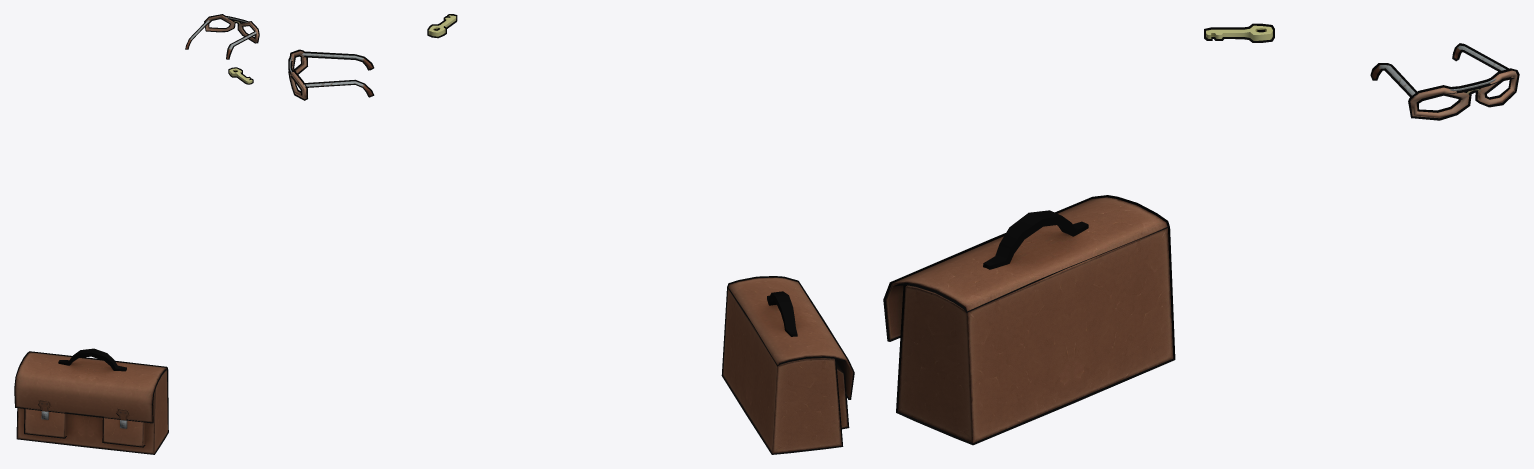
Rendered from Teachers Items.fbx.
3 renders of one model, left to right at view 1: azimuth 30°, elevation 25°; view 2: azimuth 150°, elevation 25°; view 3: azimuth 270°, elevation 25°, orthographic. The views are drawn at different scales.
Visible parts, largest first — view 1: Teachers Items; view 2: Teachers Items; view 3: Teachers Items.
Boxes of the visible parts, x1,y1,x2,y2 form: Teachers Items: (14, 14, 259, 454); Teachers Items: (288, 14, 854, 454); Teachers Items: (883, 23, 1519, 445).
Bounding box in the file's own units: 149 × 120 × 125.
